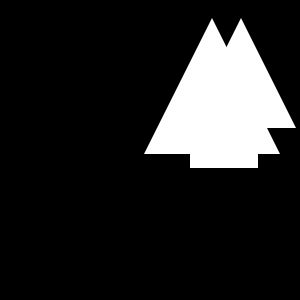circle: (190, 100, 258, 168)
triangle: (144, 18, 280, 154), (186, 18, 296, 128)
